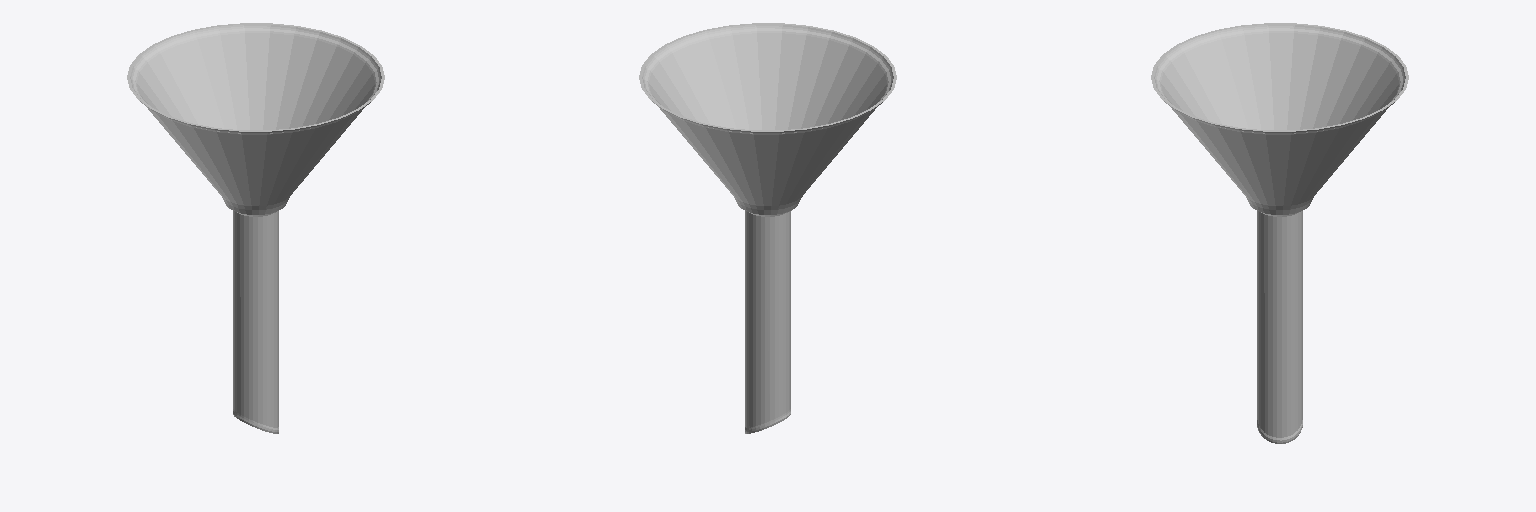
File: funnel.obj
3 views of the same model, side by side, from view 1: azimuth 30°, elevation 25°; view 2: azimuth 150°, elevation 25°; view 3: azimuth 270°, elevation 25° (orthographic).
Parts seen in each view (by area): view 1: Default; view 2: Default; view 3: Default.
Boxes of the visible parts, x1=… form: Default: x1=127, y1=23, x2=384, y2=433; Default: x1=639, y1=23, x2=896, y2=433; Default: x1=1151, y1=23, x2=1408, y2=443.
Bounding box in the file's own units: 2.07 × 3.18 × 2.08.